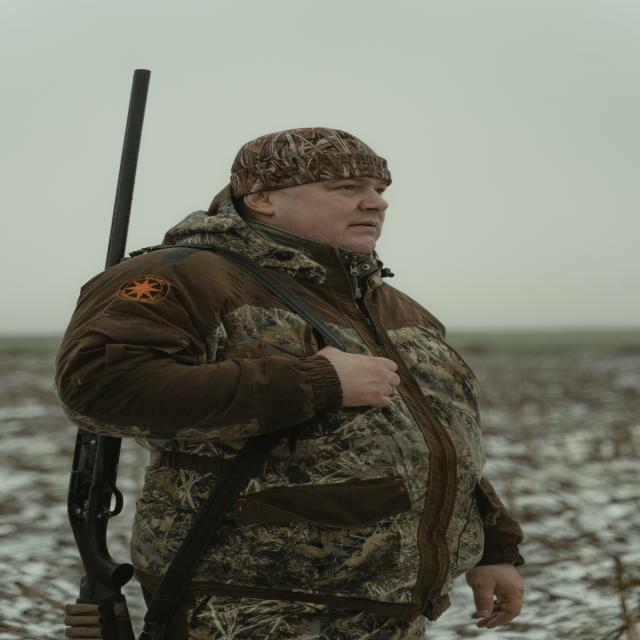ShotGun: (66, 71, 150, 640)
